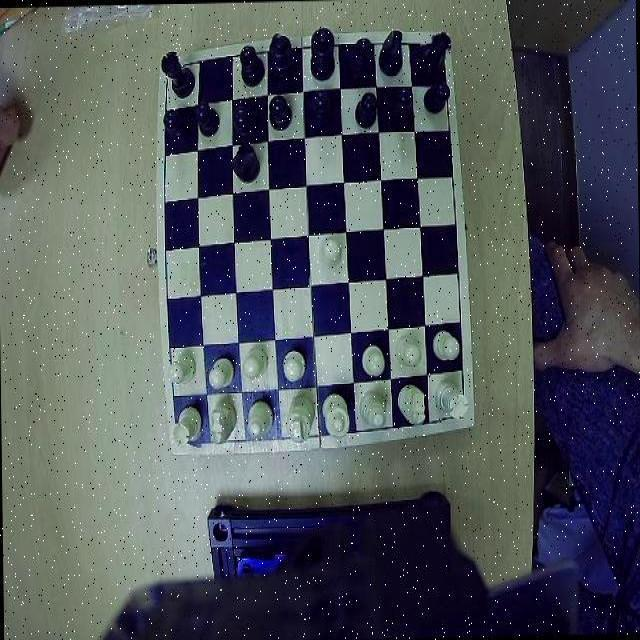chess-table-corners: (172, 424, 204, 456), (420, 34, 450, 64), (442, 398, 473, 426), (162, 52, 186, 78)
